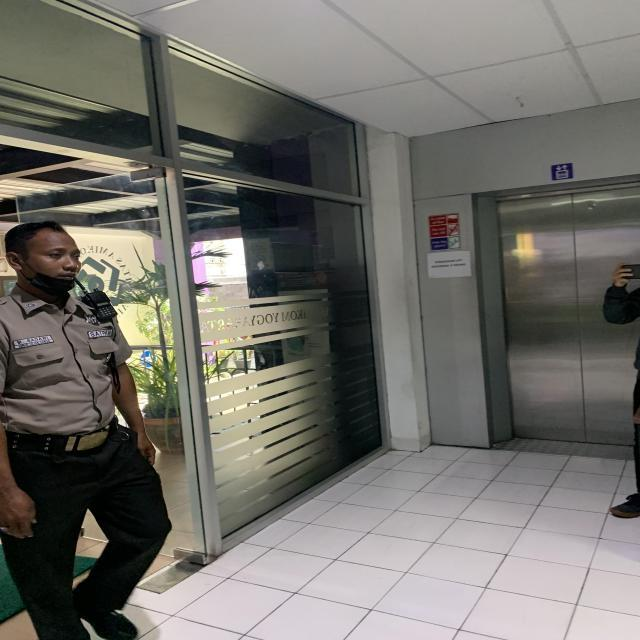hairnet: (30, 258, 78, 295)
